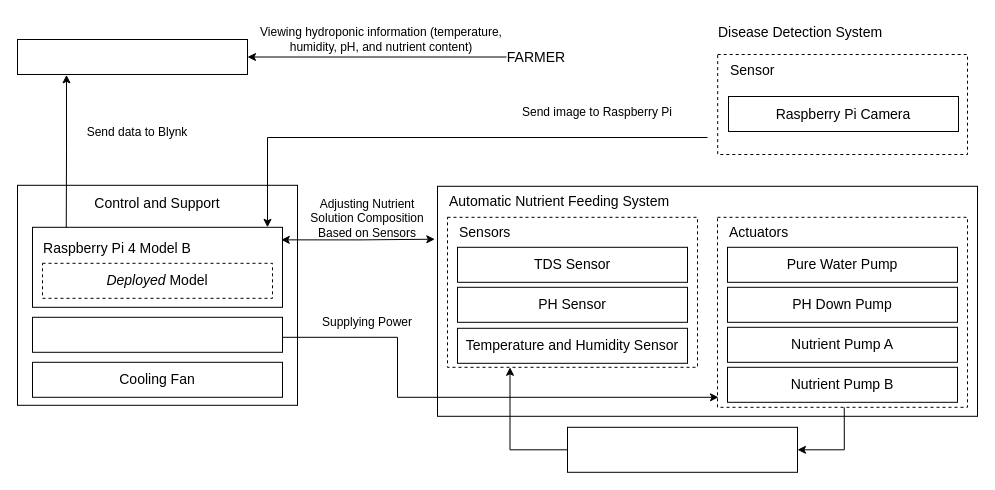
Some shapes in this 995 by 490 pixel diagram are drawn without their labels. Each missing label, with the centre of its shape:
Blynk: [132,56]
Hydroponic Nutrient Solution: [682,449]
Power Suppy: [157,334]
